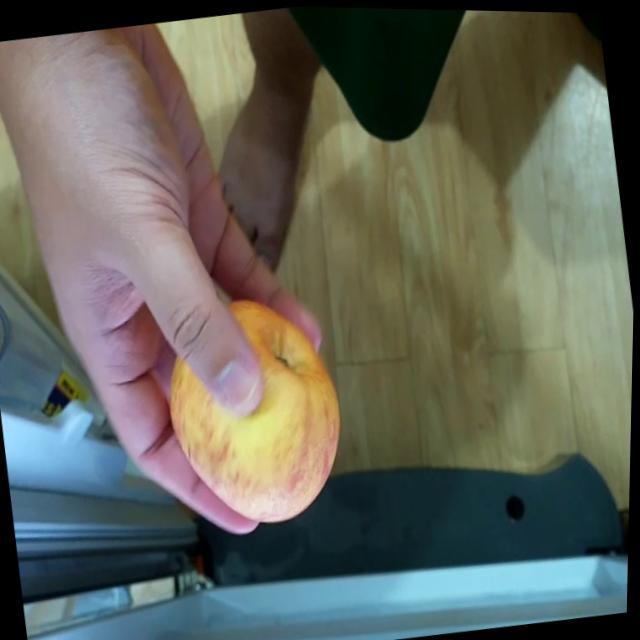apple: (159, 279, 359, 533)
